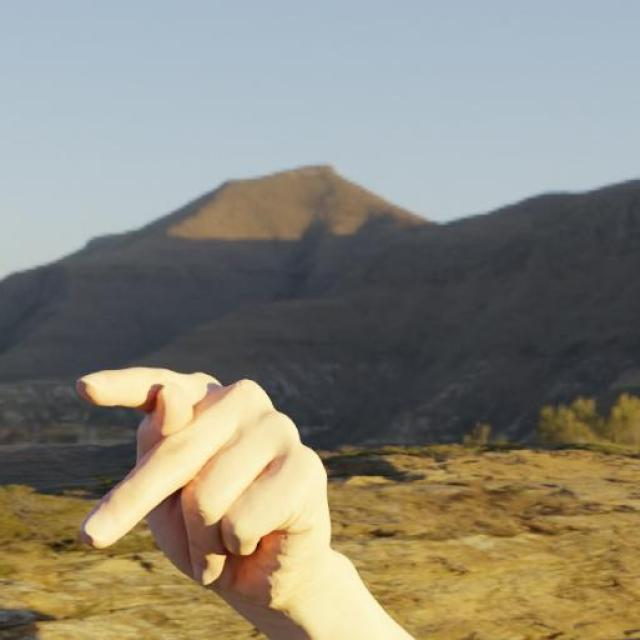P: (67, 365, 341, 610)
